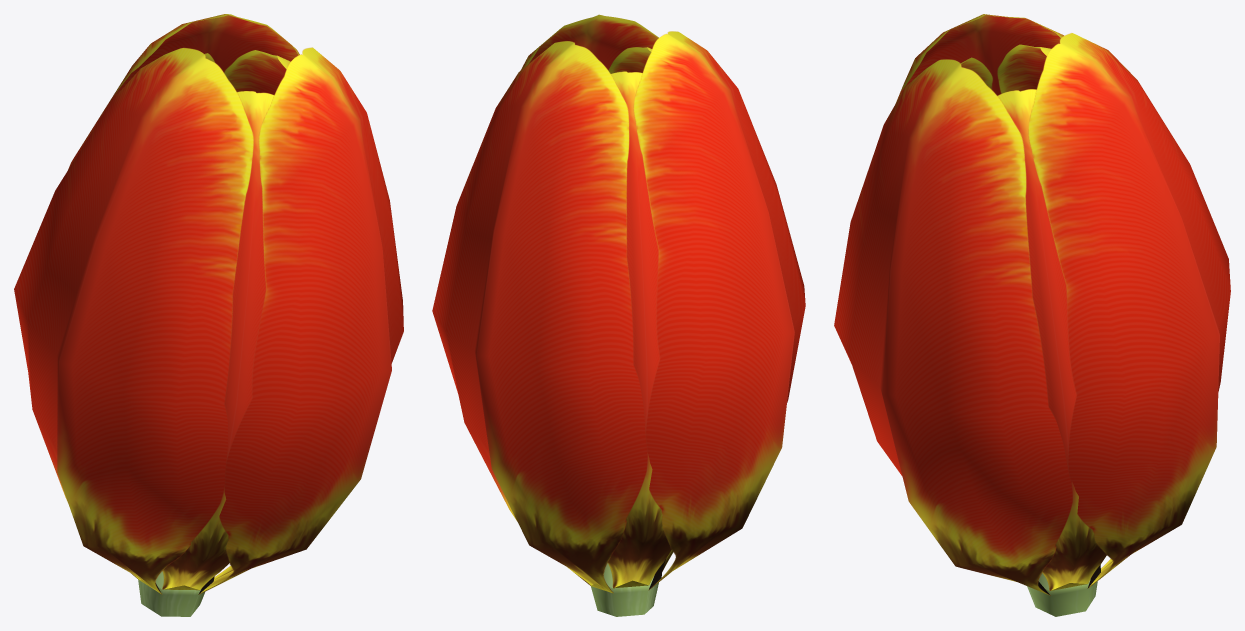
The model's file is tulip.glb.
3 renders of one model, left to right at view 1: azimuth 30°, elevation 25°; view 2: azimuth 150°, elevation 25°; view 3: azimuth 270°, elevation 25°, orthographic. The views are drawn at different scales.
Parts seen in each view (by area): view 1: FlowerHead; view 2: FlowerHead; view 3: FlowerHead.
Boxes of the visible parts, <box> form: FlowerHead: <box>14,14,403,616</box>; FlowerHead: <box>432,14,805,616</box>; FlowerHead: <box>834,14,1230,616</box>.
Bounding box in the file's own units: 0.2143 × 0.3463 × 0.2108.
1 material, 1 textured.
